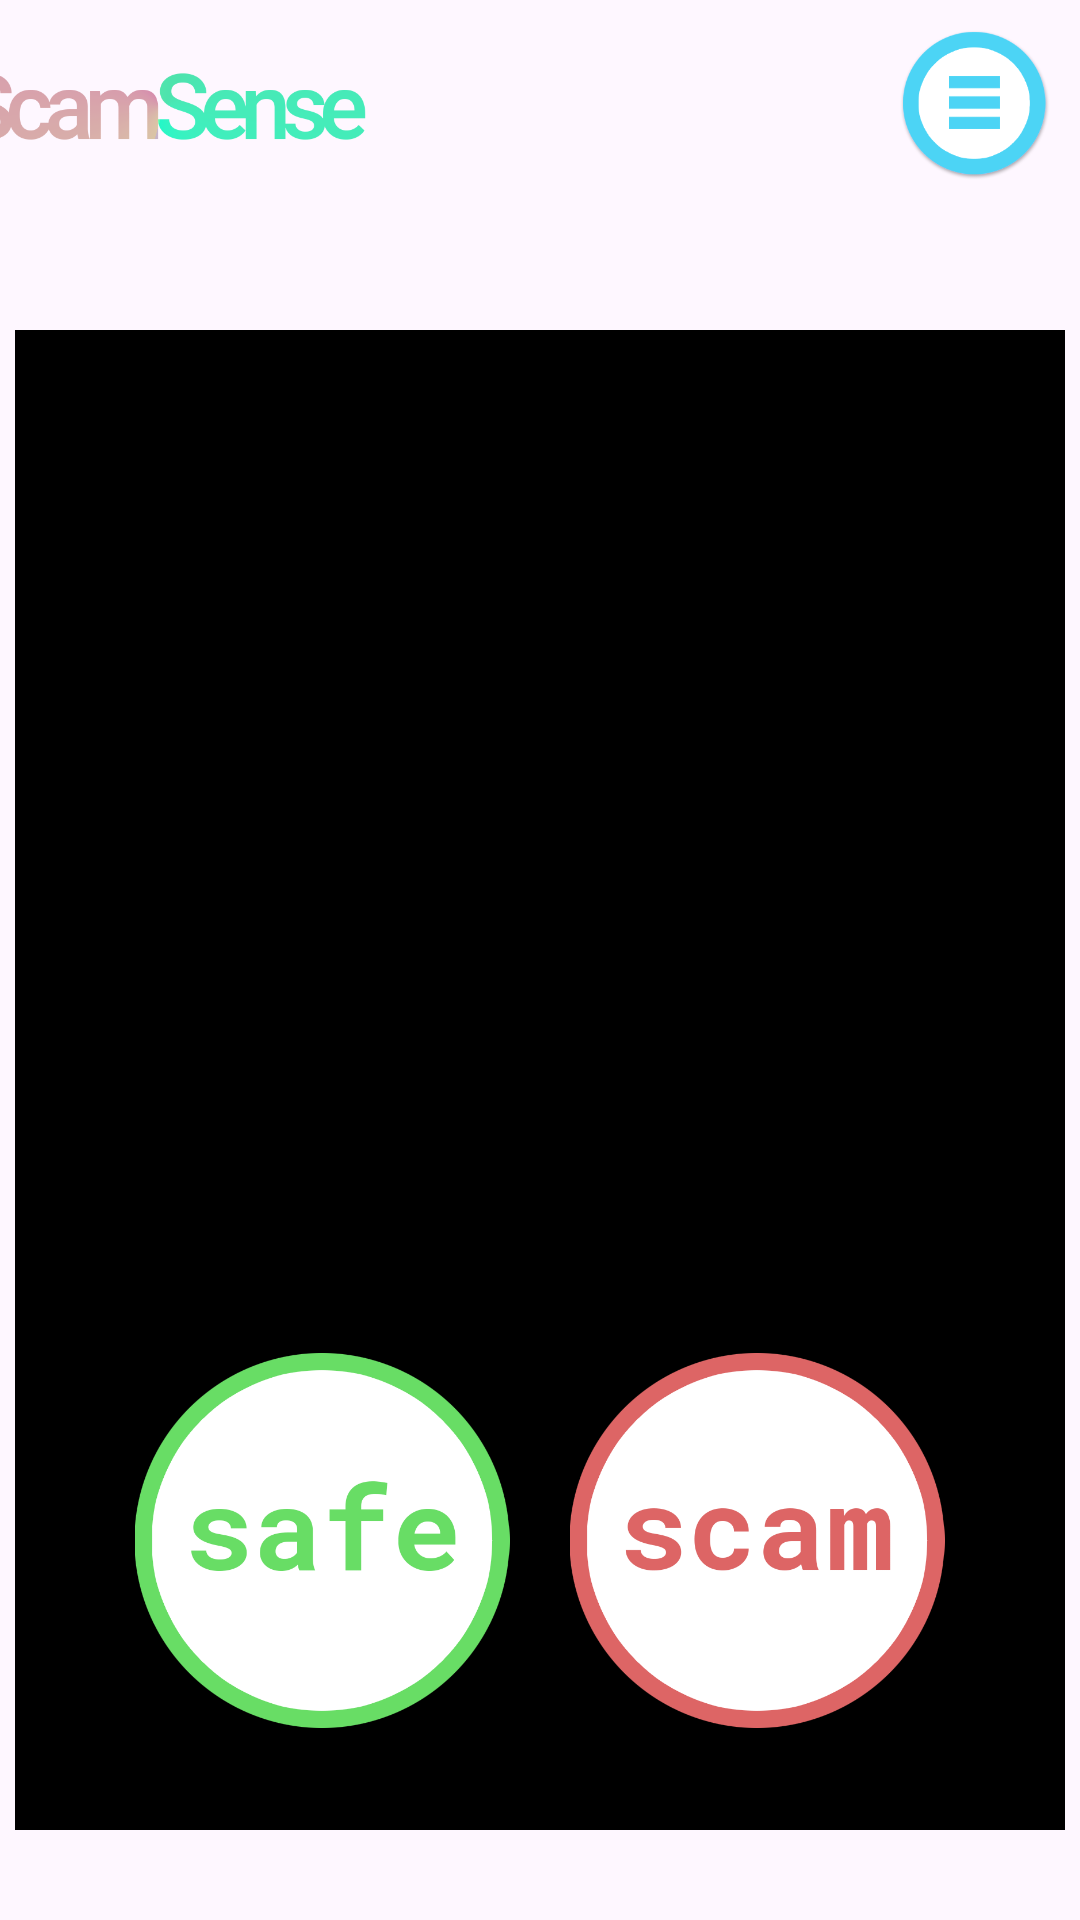

Named icons in this screenshot (1080 × 1920) and their centers, (x,y):
menu: (975,105)
